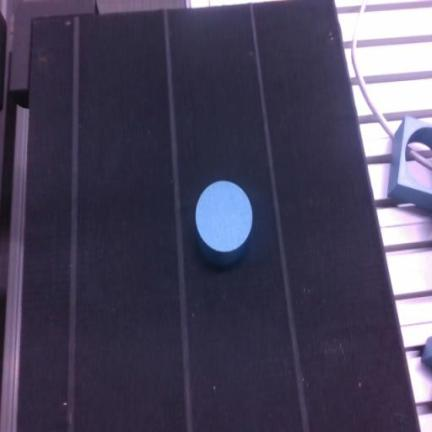cylinder: (195, 180, 252, 267)
